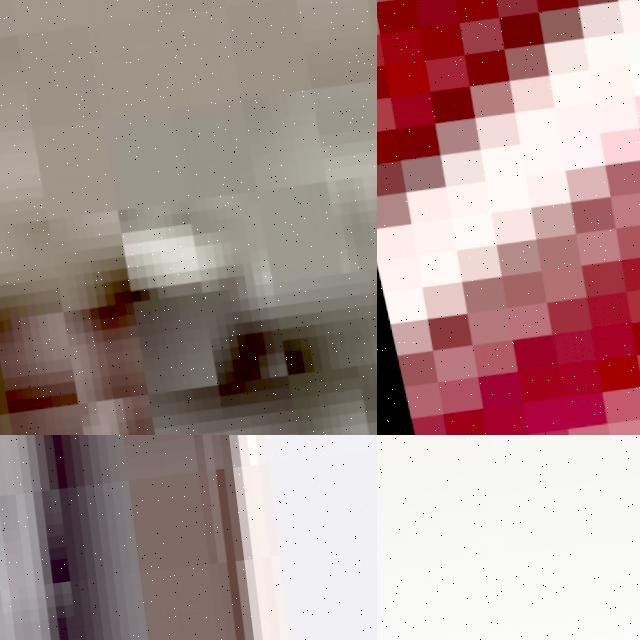drone: (0, 0, 377, 435), (377, 0, 640, 435), (377, 435, 640, 640)
